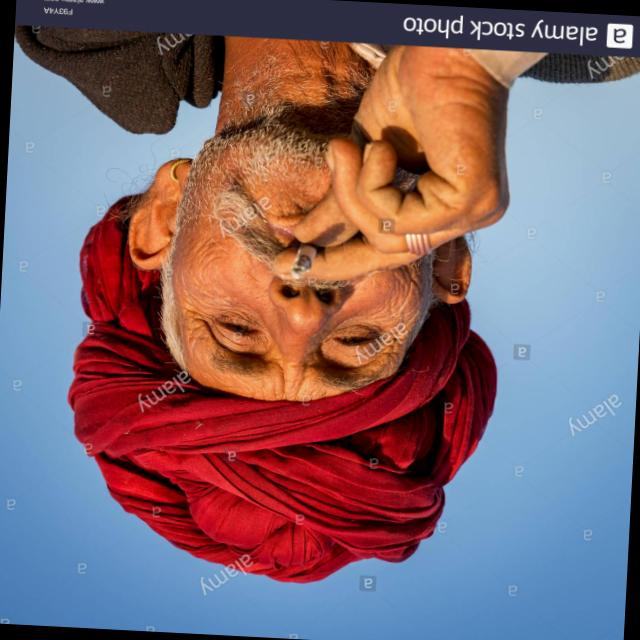smoke: (278, 228, 342, 292)
